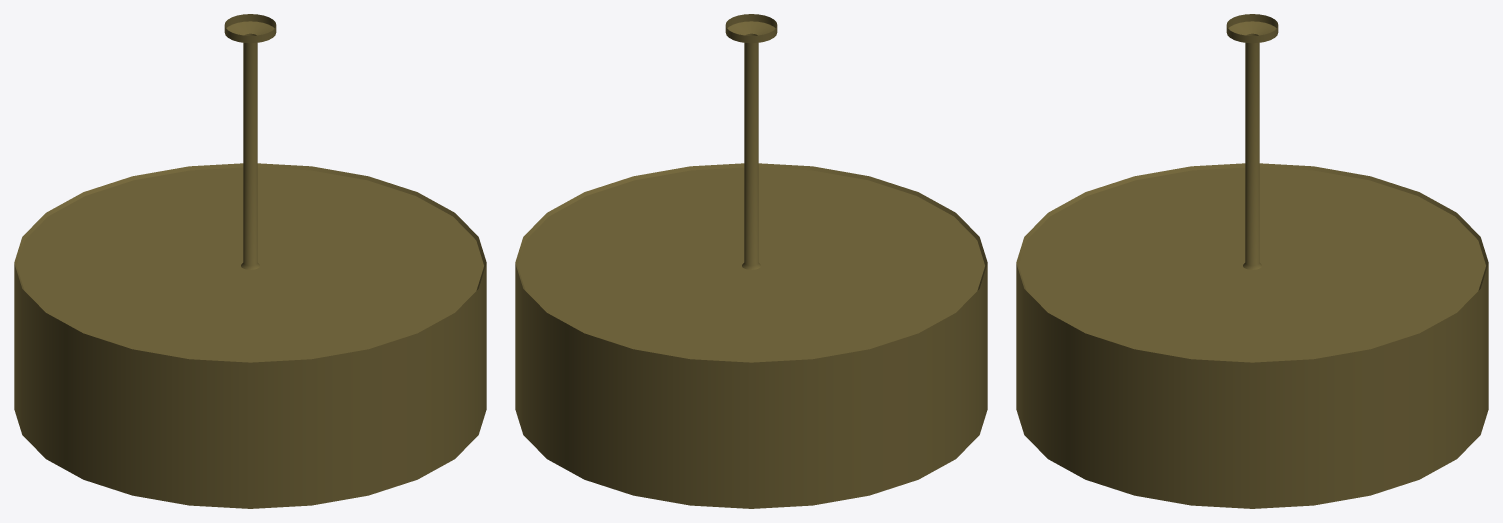
File: LightFixture3.fbx
3 views of the same model, side by side, from view 1: azimuth 30°, elevation 25°; view 2: azimuth 150°, elevation 25°; view 3: azimuth 270°, elevation 25° (orthographic).
Visible parts, largest first — view 1: LightFixture3; view 2: LightFixture3; view 3: LightFixture3.
Part boxes in pixels (x1,y1,x2,y2): LightFixture3: (14, 14, 486, 508); LightFixture3: (515, 14, 987, 508); LightFixture3: (1016, 14, 1488, 508).
Size of the model in its own units: 79.65 by 71.45 by 79.65.
